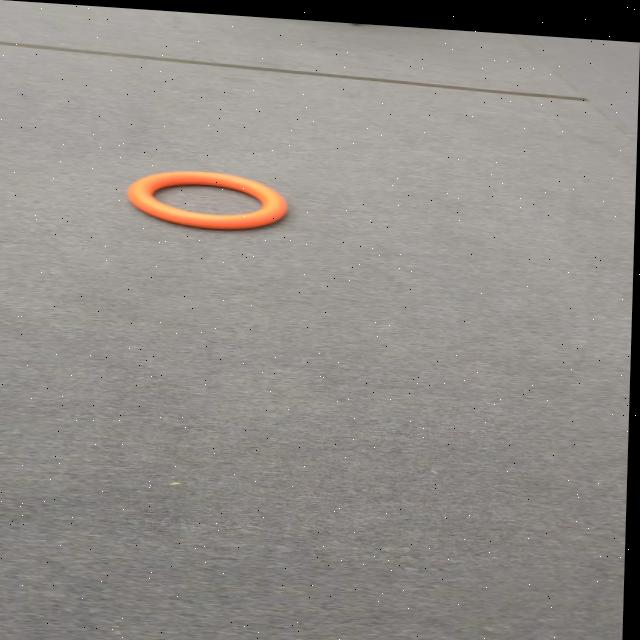note: (128, 164, 291, 233)
